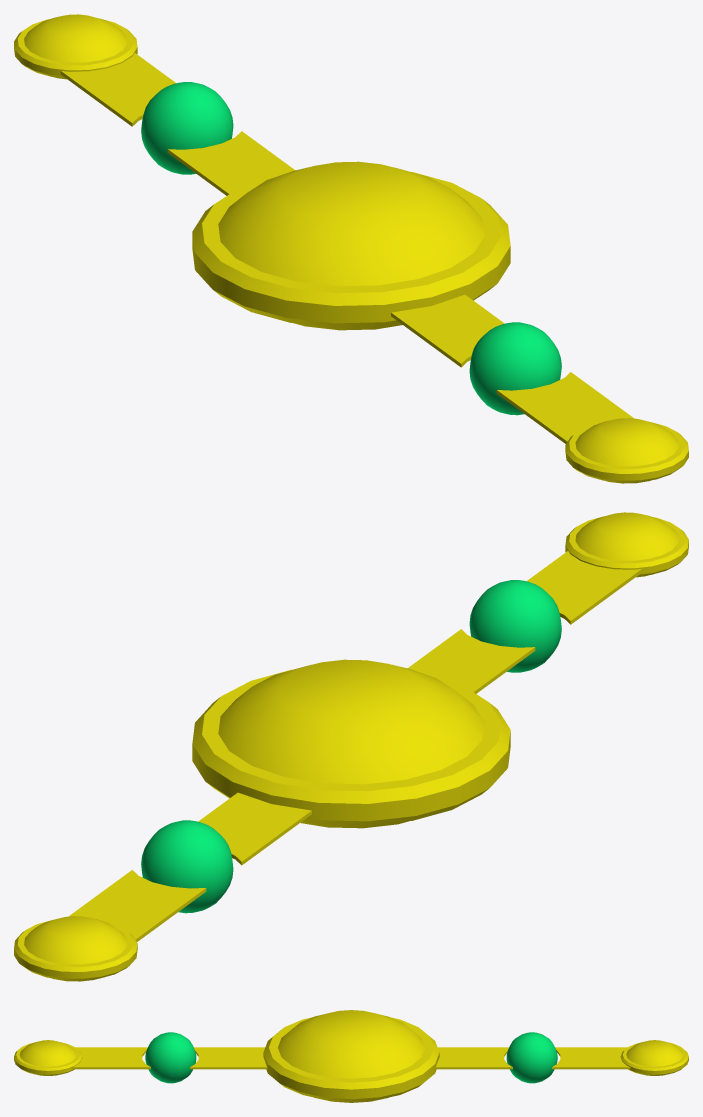
The model's file is Floating_Lights.fbx.
The picture shows the model from 3 angles, top to bottom: view 1: azimuth 30°, elevation 25°; view 2: azimuth 150°, elevation 25°; view 3: azimuth 270°, elevation 25°; orthographic projection. The views are drawn at different scales.
Parts seen in each view (by area): view 1: Floating_Lights; view 2: Floating_Lights; view 3: Floating_Lights.
Part boxes in pixels (x1,y1,x2,y2): Floating_Lights: (14, 14, 688, 483); Floating_Lights: (14, 512, 688, 981); Floating_Lights: (14, 1010, 688, 1102).
Bounding box in the file's own units: 0.7348 × 0.2674 × 2.82.
